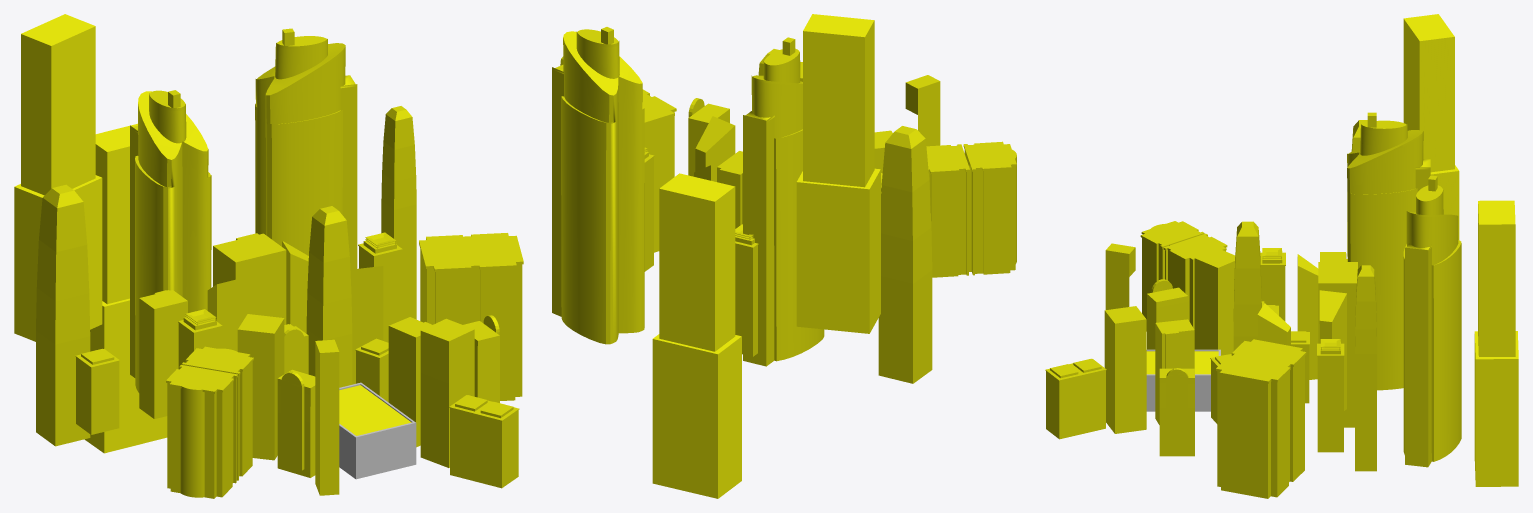
The picture shows the model from 3 angles, left to right: view 1: azimuth 30°, elevation 25°; view 2: azimuth 150°, elevation 25°; view 3: azimuth 270°, elevation 25°; orthographic projection. The views are drawn at different scales.
Parts seen in each view (by area): view 1: Building, Platform; view 2: Building; view 3: Building, Platform.
Part boxes in pixels (x1,y1,x2,y2): Building: (14, 14, 523, 498); Platform: (339, 382, 416, 479); Building: (552, 14, 1016, 498); Building: (1045, 14, 1518, 498); Platform: (1146, 349, 1220, 411).
Size of what is drawn, in the model's own units: 0.4243 by 0.4493 by 0.4812.
7 materials, 6 textured.
